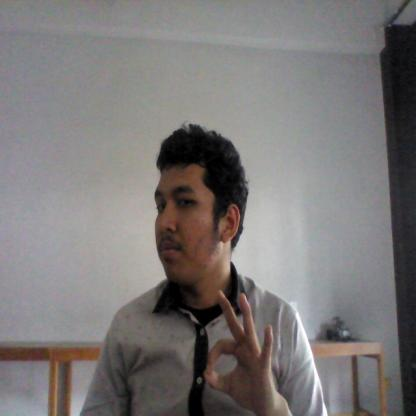O: (190, 286, 282, 408)
